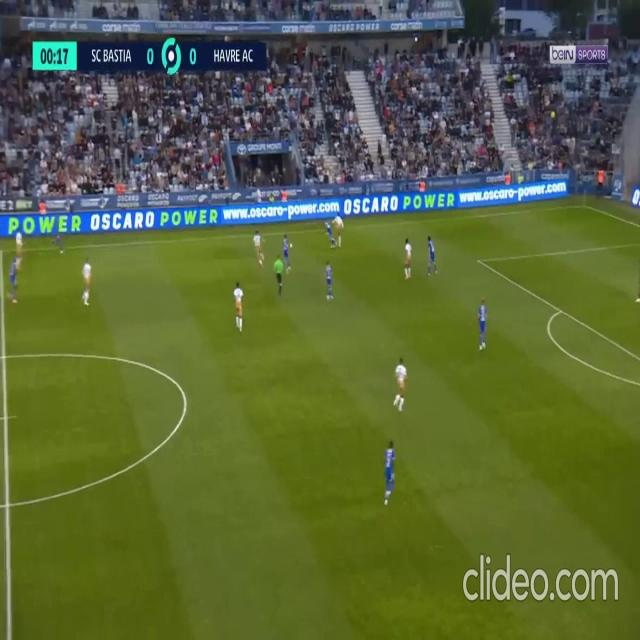ball: (83, 284, 90, 306)
player: (384, 439, 396, 505), (394, 357, 407, 411), (477, 297, 488, 350), (234, 280, 244, 332), (10, 254, 20, 302), (427, 234, 438, 276), (273, 253, 284, 295), (83, 257, 92, 303), (282, 232, 292, 272), (254, 227, 264, 265), (53, 215, 63, 253), (325, 260, 334, 302), (325, 215, 336, 249), (334, 208, 344, 245), (15, 224, 24, 264), (404, 237, 412, 279)
referee: (273, 253, 284, 296)
